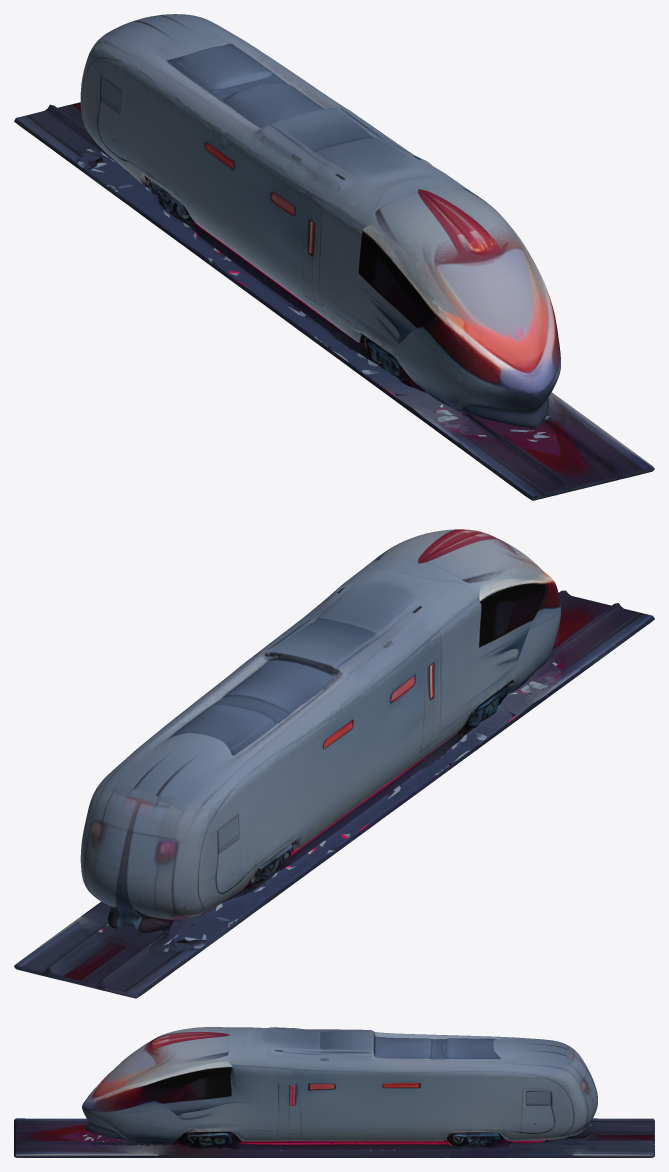
File: subway.glb
The picture shows the model from 3 angles, top to bottom: view 1: azimuth 30°, elevation 25°; view 2: azimuth 150°, elevation 25°; view 3: azimuth 270°, elevation 25°; orthographic projection. The views are drawn at different scales.
Visible parts, largest first — view 1: textured_mesh; view 2: textured_mesh; view 3: textured_mesh.
Boxes of the visible parts, x1,y1,x2,y2 form: textured_mesh: (14, 14, 654, 500); textured_mesh: (14, 529, 654, 998); textured_mesh: (14, 1027, 654, 1157).
Size of the model in its own units: 0.2774 by 0.3612 by 1.99.
1 material, 1 textured.
